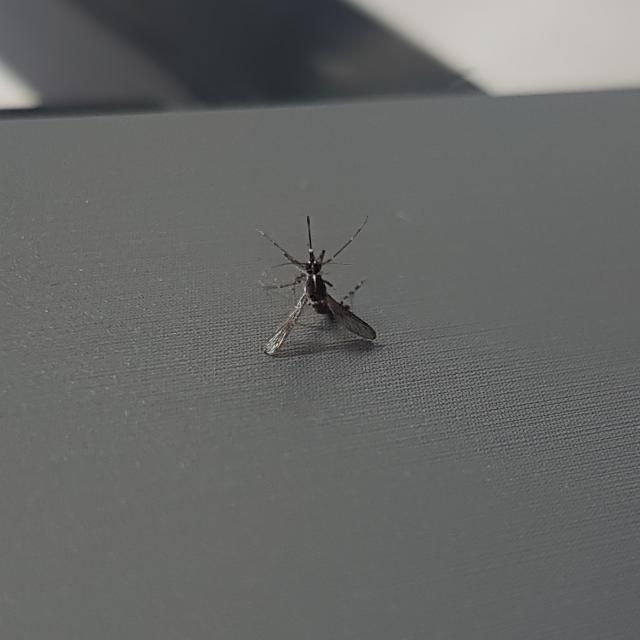albopictus: (249, 209, 380, 354)
